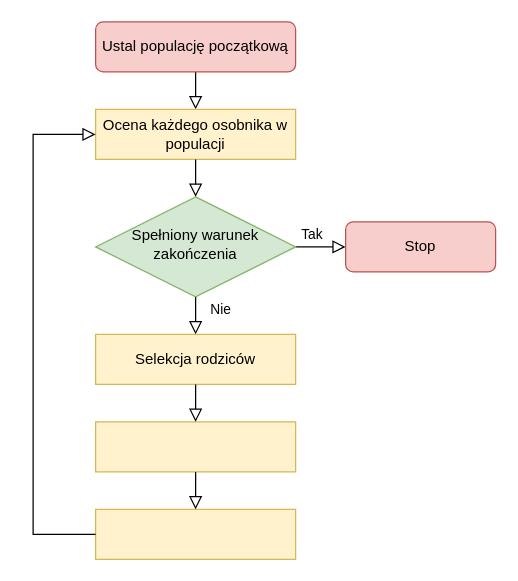
This 518x581 diagram has some shape labels left out. The centre of each missing label's shape, as x and y in pixels:
"Krzyżowanie" goes at (195,446).
"Mutacja" goes at (195,533).
